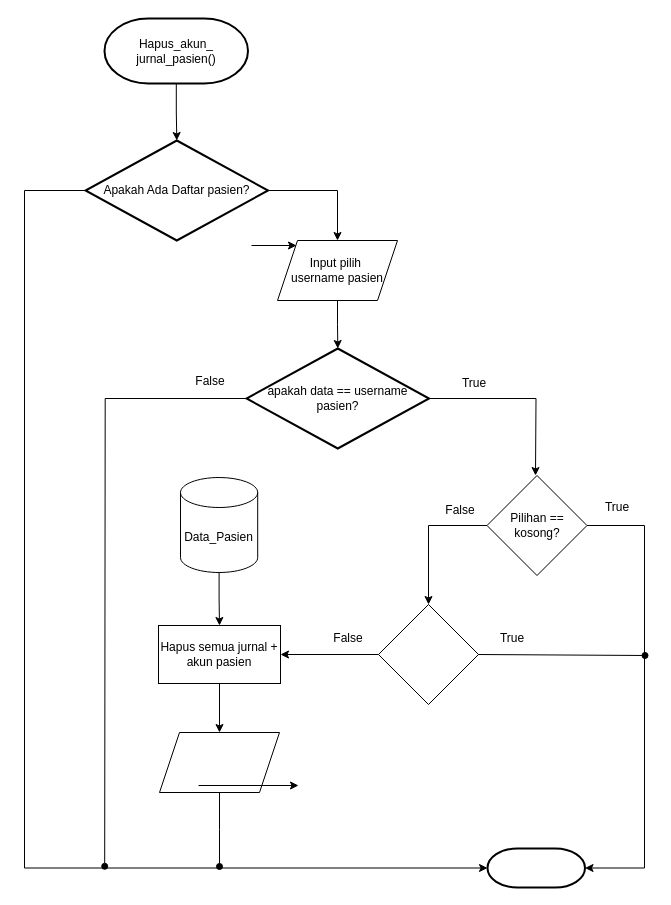
The diagram is 671 pixels wide and 905 high, and some of its shapes have lost their labels. Here are the shapes that lost their labels. From the top down, the centre of each, then its label:
At pixel 428 654: "Konfirmasi == tidak?".
At pixel 219 762: "Output riwayat berhasil di hapus".
At pixel 536 867: "END".
